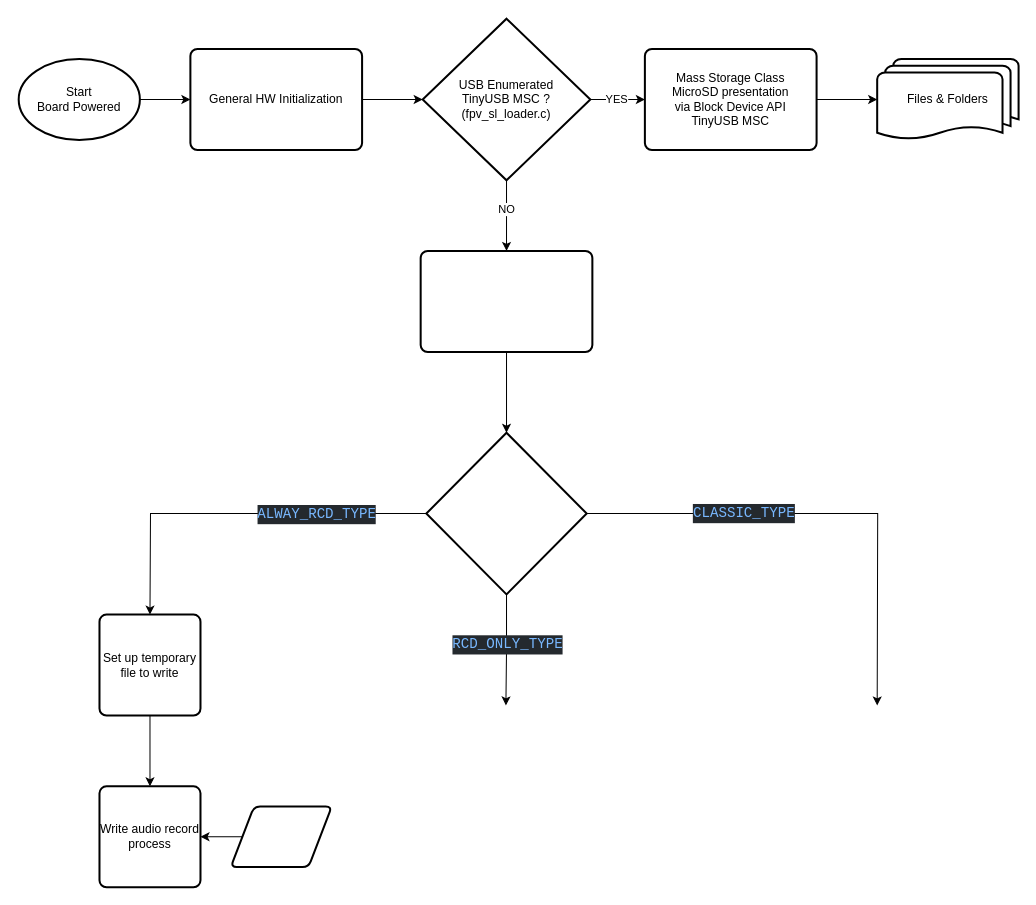
Some shapes in this 1036 by 905 pixel diagram are drawn without their labels. The box of each missing label's shape, as (x1, y1, x2, y2) in pixels:
Determine execution type mode: (425, 431, 587, 595)
I2S NEMS MIC DATA: (229, 805, 332, 868)
Initialize and load configuration from file (default.conf): (419, 249, 593, 352)
